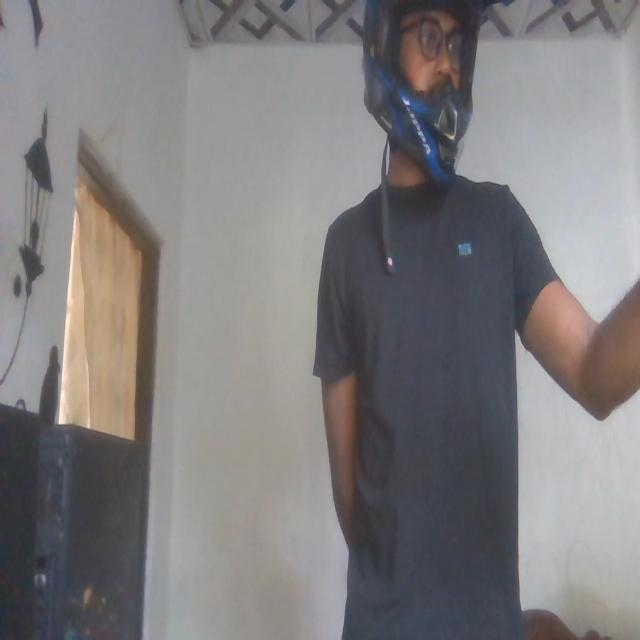Helmet_Wearer: (370, 0, 494, 179)
Person: (311, 0, 640, 640)
